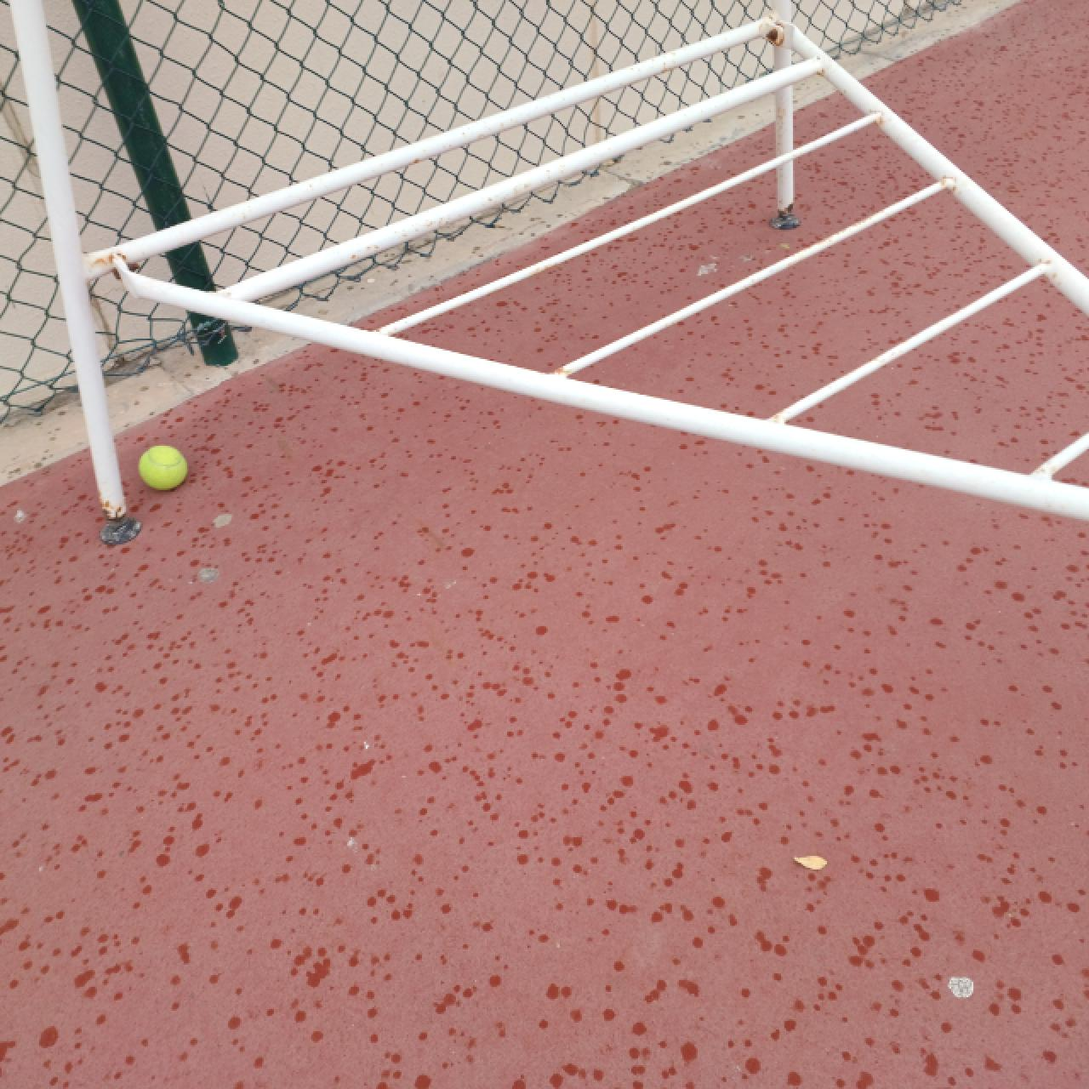tennis-ball: (138, 442, 189, 492)
